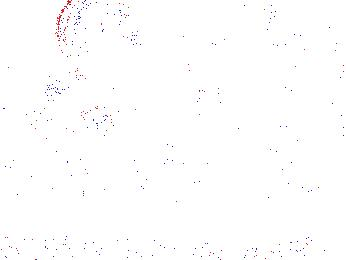moon jellyfish: (34, 79, 123, 153), (170, 88, 244, 176), (163, 63, 246, 128), (57, 1, 127, 66), (266, 13, 335, 71)
